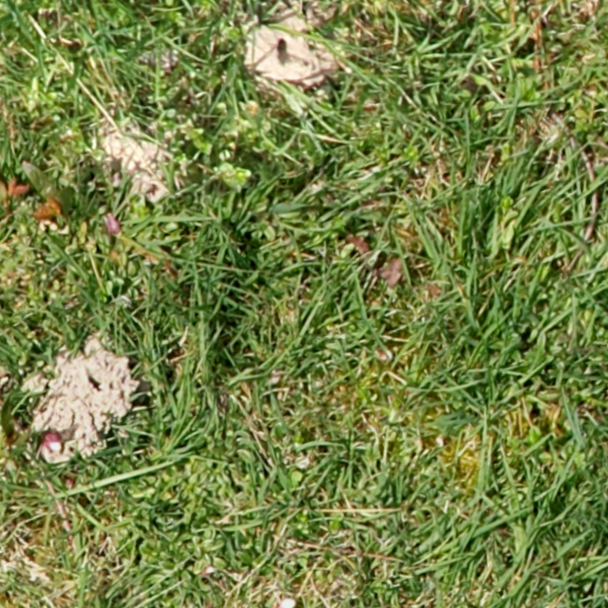nest: (27, 337, 136, 460), (244, 13, 337, 94)
